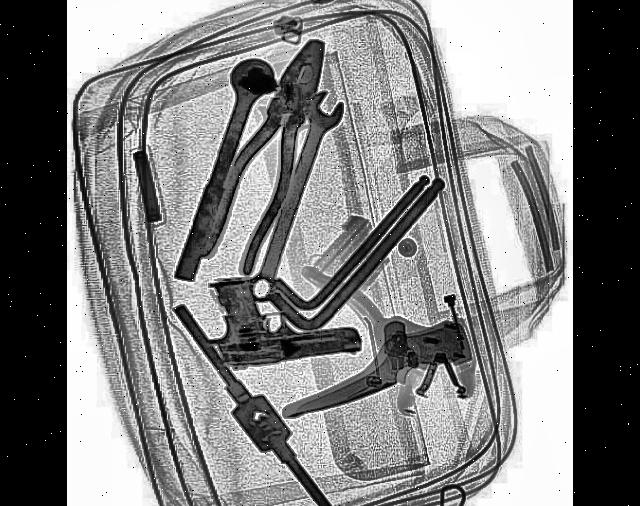Gun: (206, 260, 362, 378)
Pliers: (195, 18, 342, 292)
Wrench: (236, 81, 346, 311)
